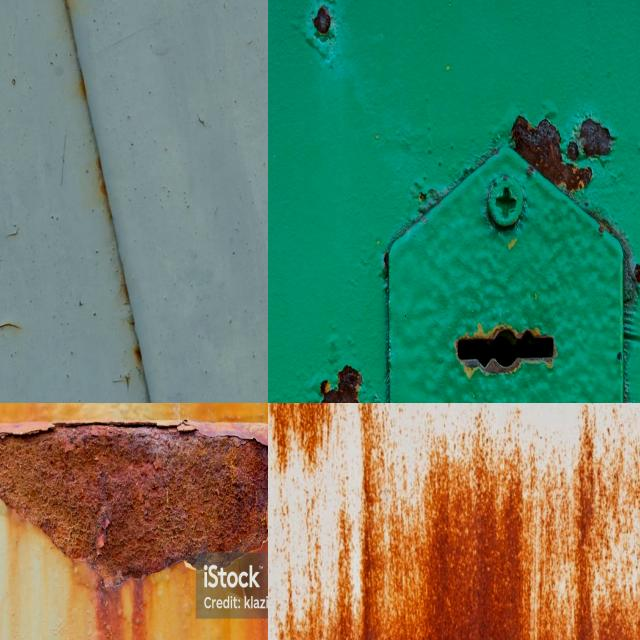Pitting Corrosion: (320, 365, 363, 403)
Uniform Corrosion: (268, 403, 640, 640), (0, 422, 268, 584), (60, 539, 268, 640), (510, 115, 614, 194)
